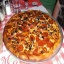pizza: (4, 7, 61, 59)
